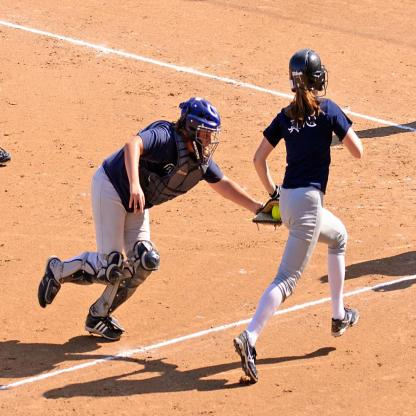Helmet: (177, 97, 220, 150), (288, 47, 326, 98)
